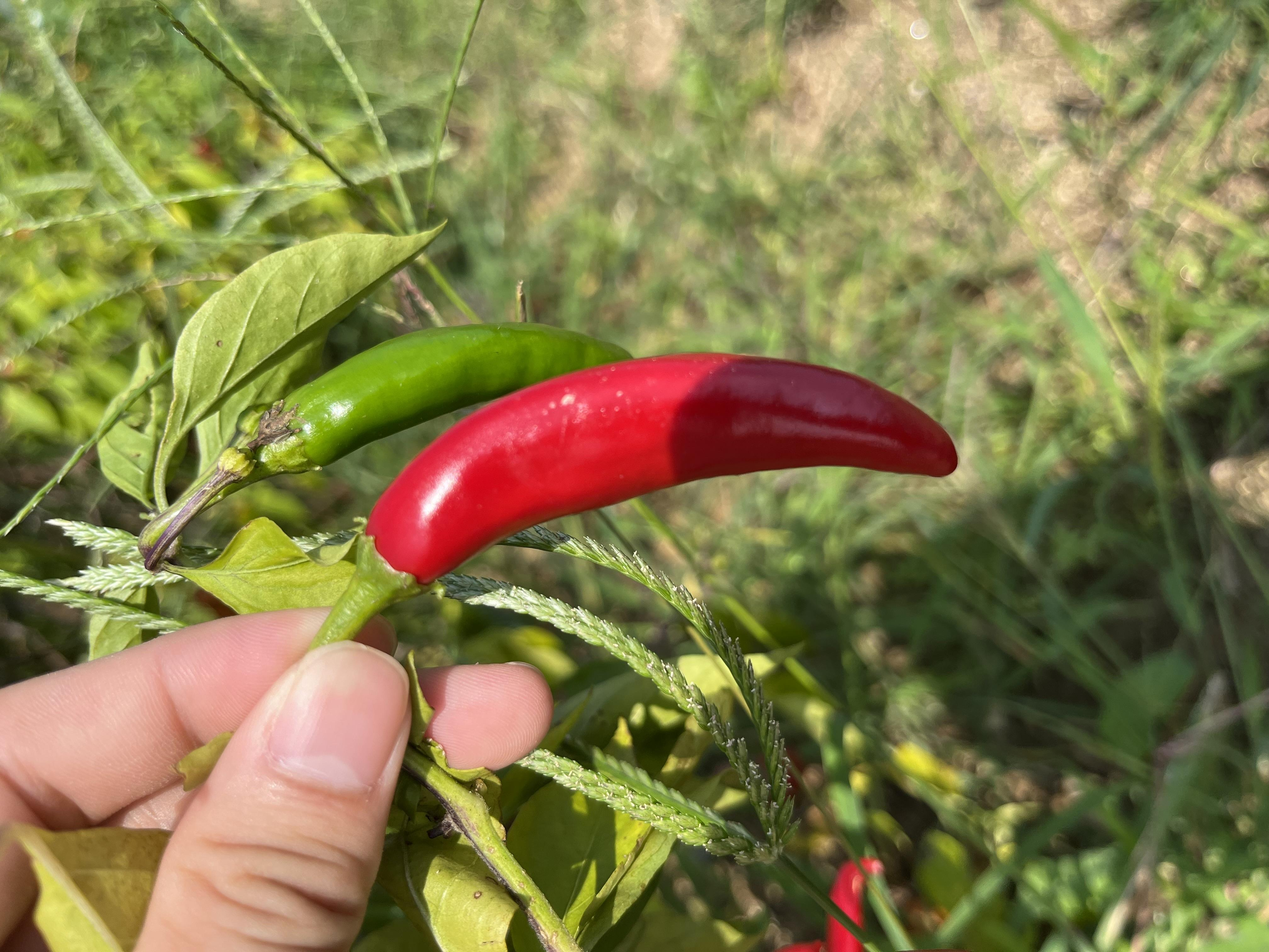Buah Cabai Sehat: (481, 261, 793, 723), (629, 154, 842, 469)
